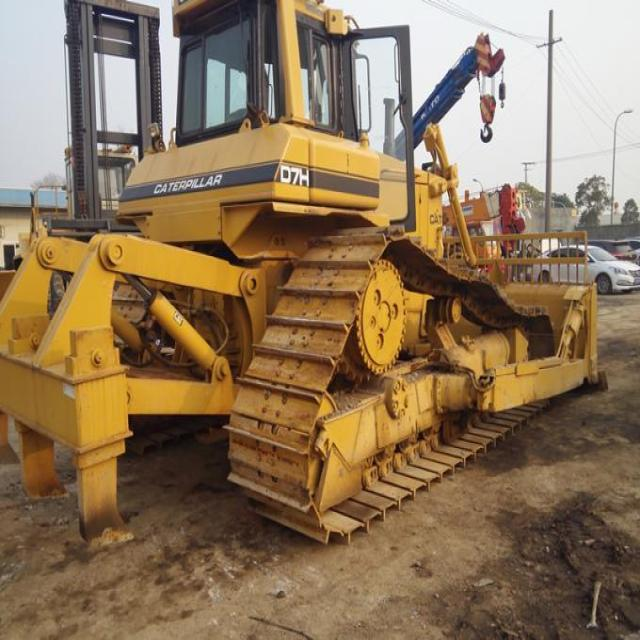buldozerpayloadergrader: (6, 2, 610, 554)
